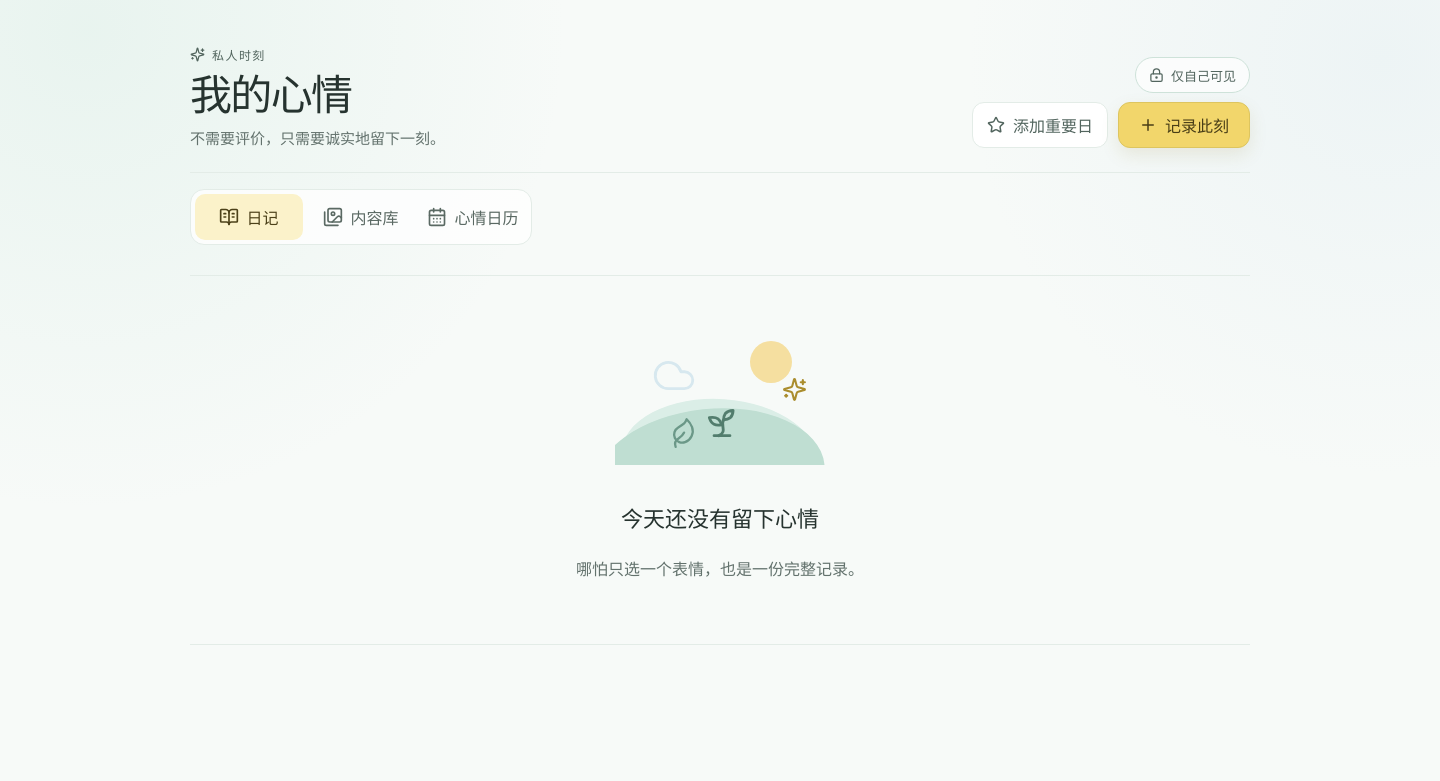
Test: EmotionModule › 日历日期可进入当天全部记录
Step 1. Click the button "记录此刻" → {"x": 1184, "y": 125}, box [1118, 102, 1250, 148]
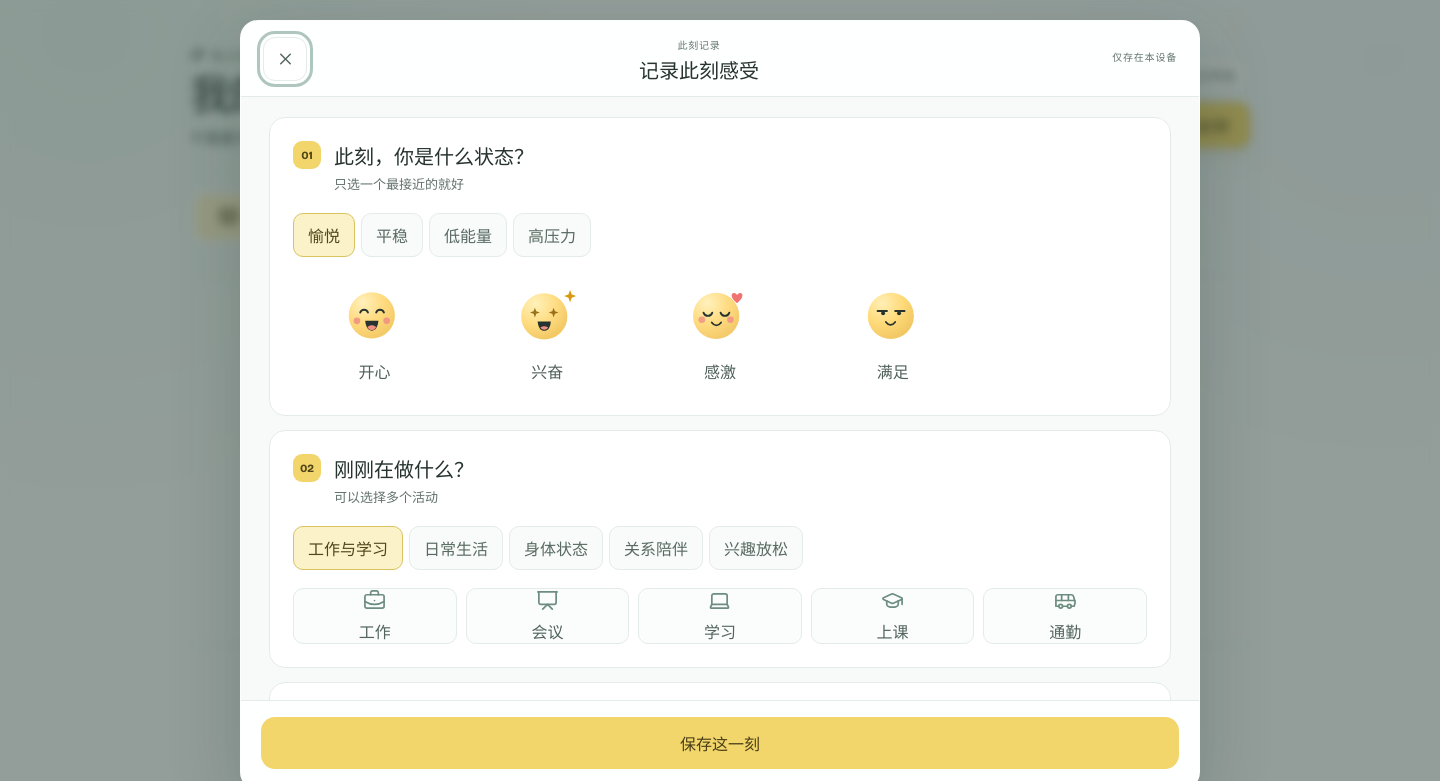
Step 2. Click the radio button labelled "开心" → {"x": 374, "y": 334}, box [293, 275, 456, 392]
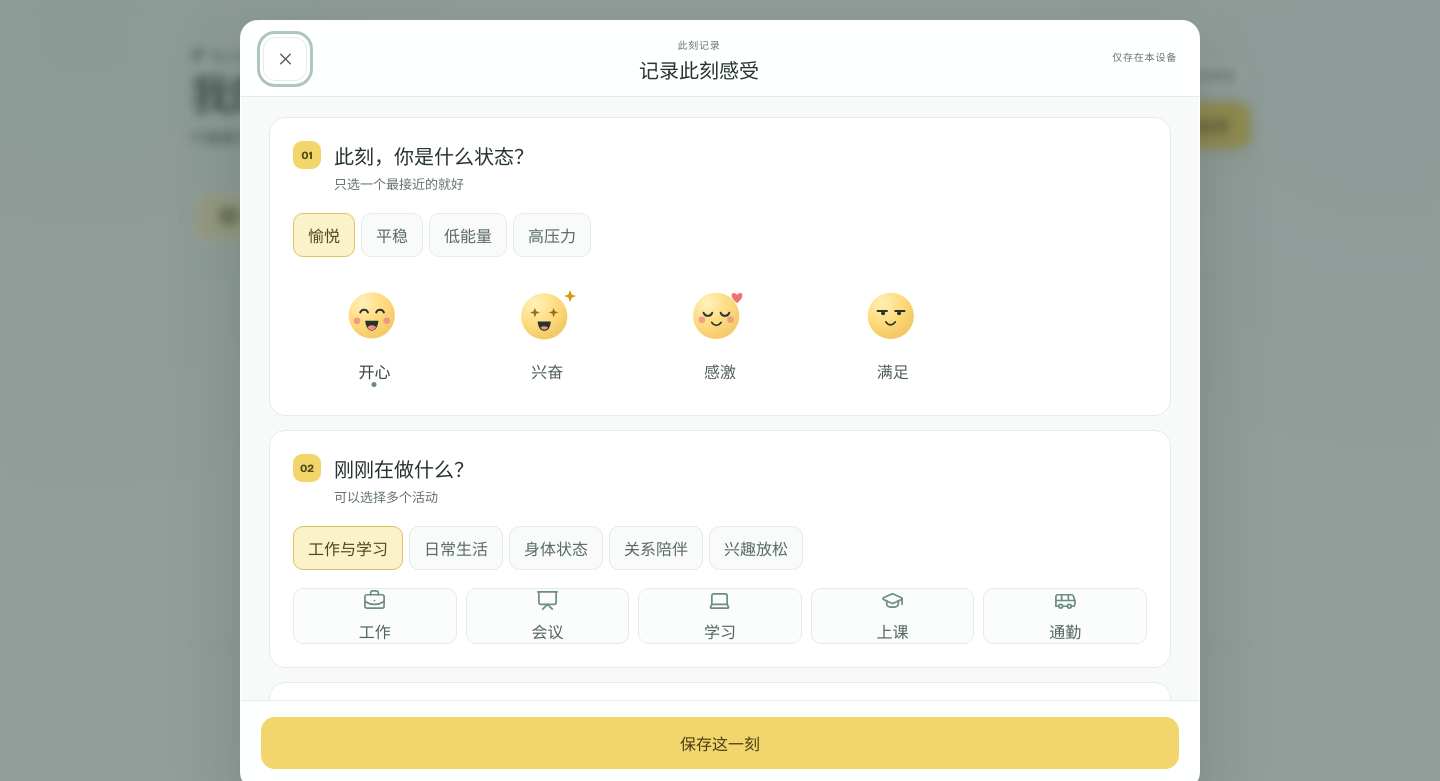
Step 3. Click the button "保存这一刻" → {"x": 720, "y": 743}, box [261, 717, 1179, 769]
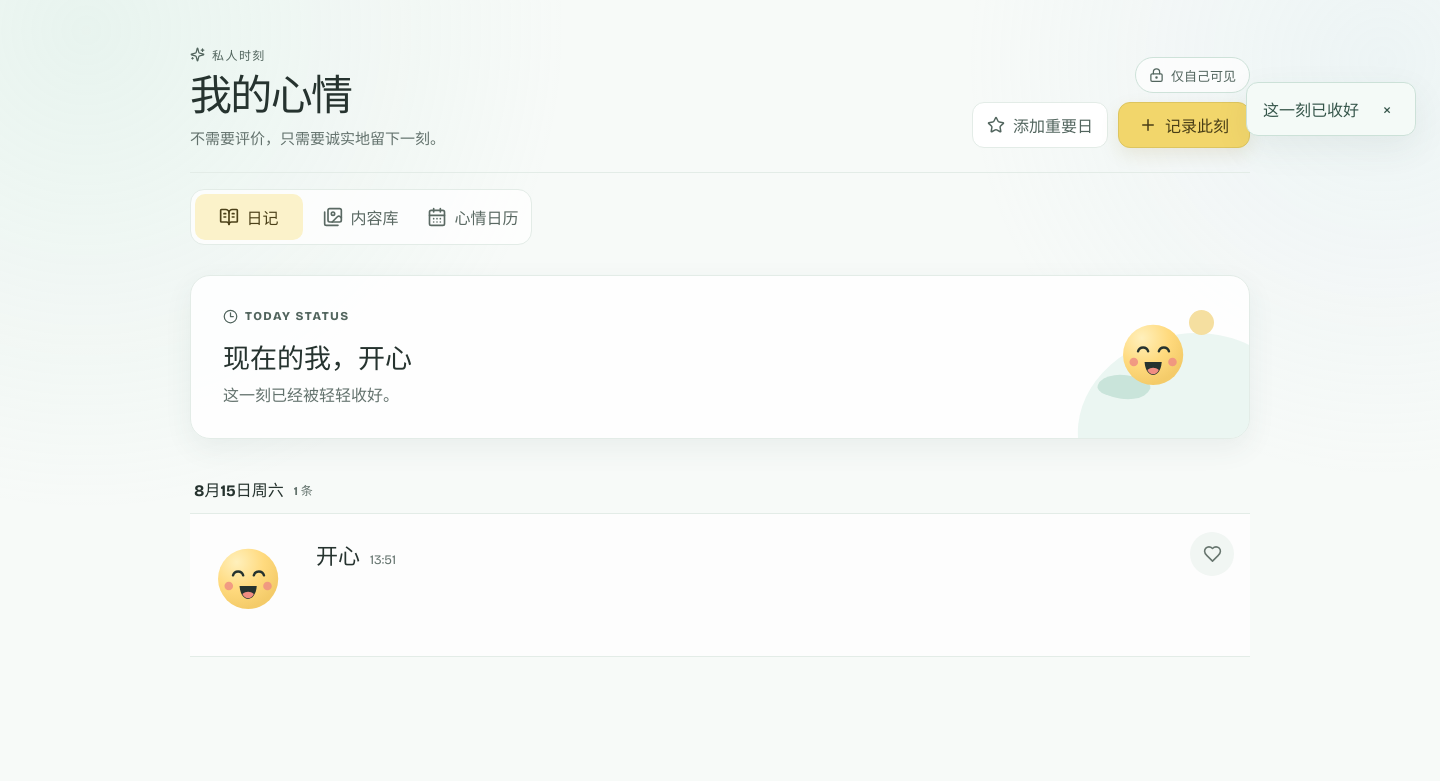
Now the heading "现在的我，开心" is shown, box [223, 337, 412, 376]
Step 4. Click the button "心情日历" → {"x": 473, "y": 217}, box [419, 194, 527, 240]
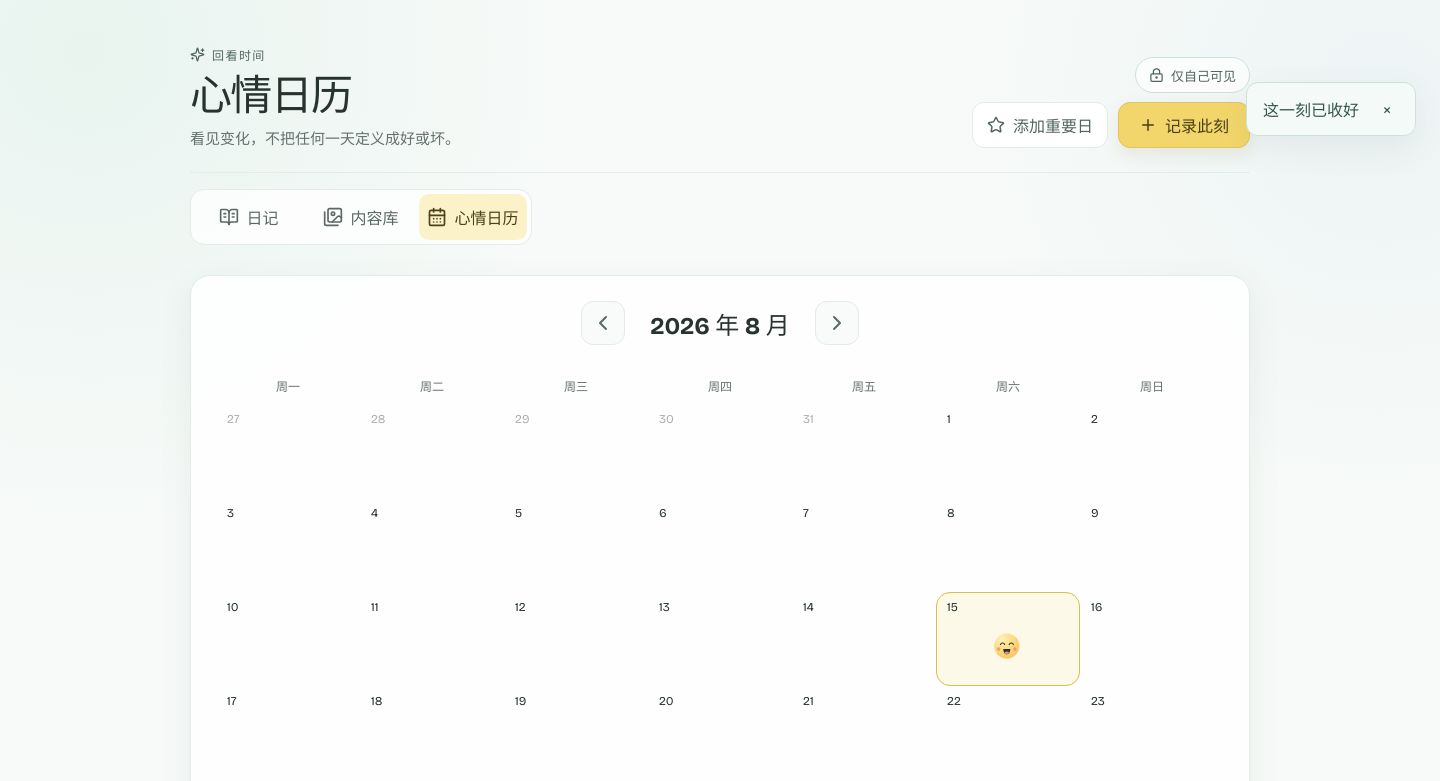
Step 5. Click the button named "1 条记录" → {"x": 1008, "y": 639}, box [936, 592, 1080, 686]
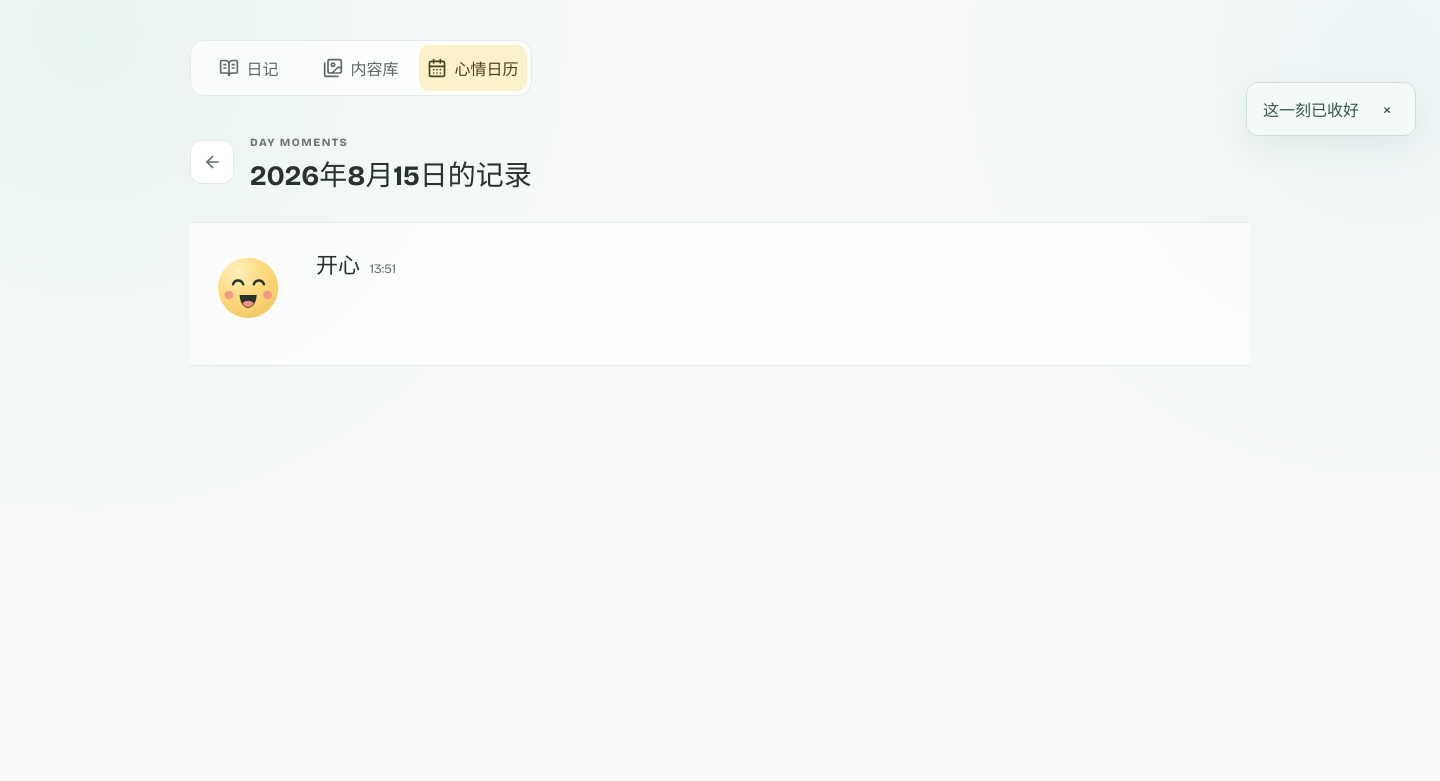
Now the heading "的记录" is shown, box [250, 159, 532, 193]
